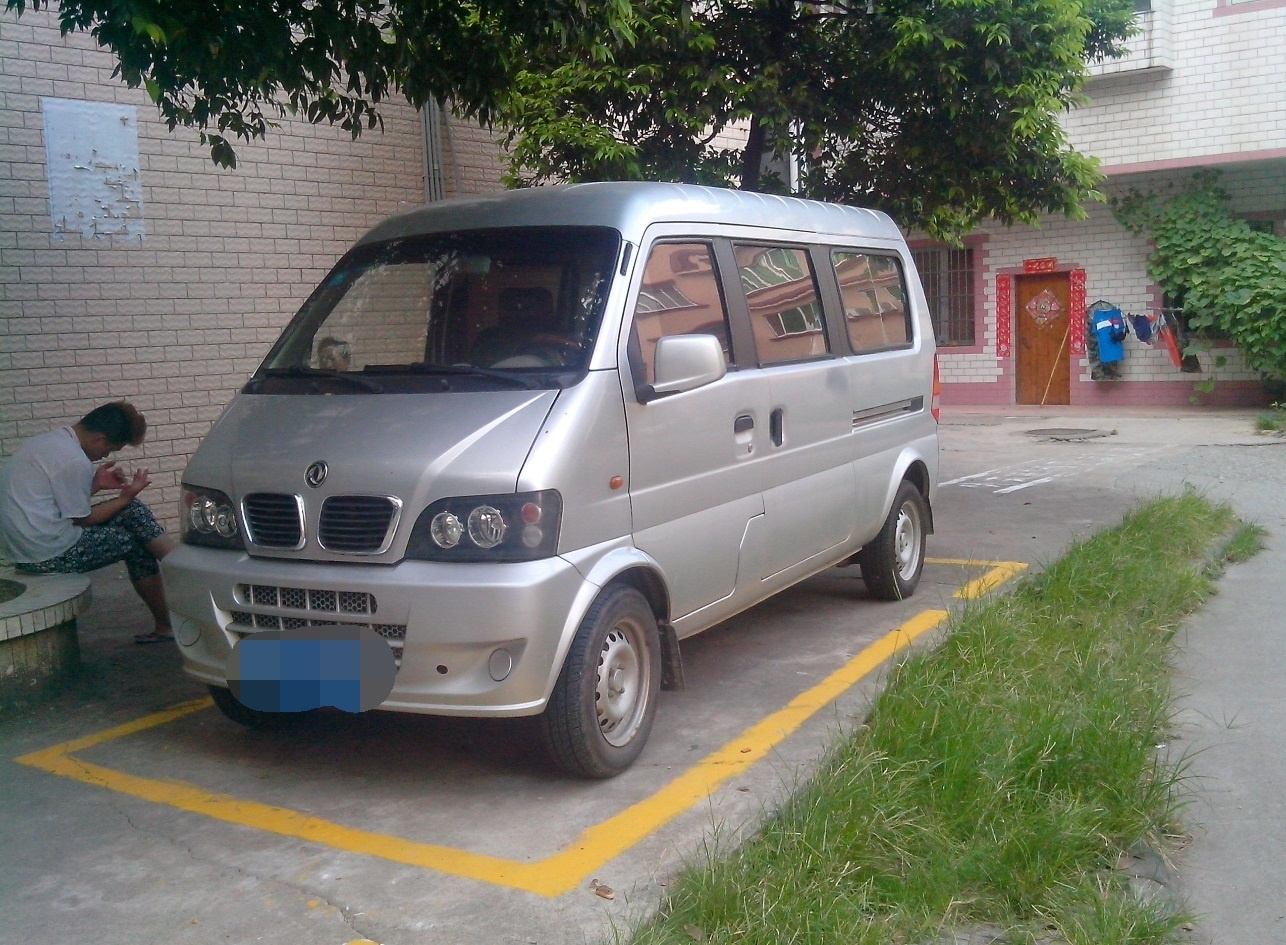minibus: (157, 176, 950, 730)
